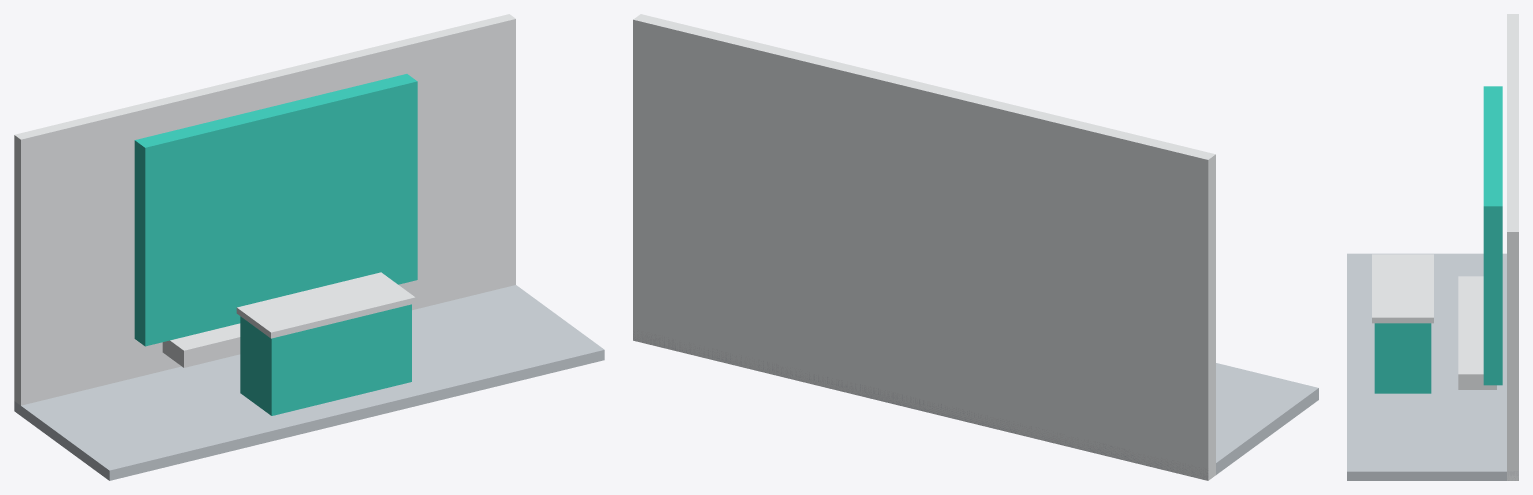
The picture shows the model from 3 angles, left to right: view 1: azimuth 30°, elevation 25°; view 2: azimuth 150°, elevation 25°; view 3: azimuth 270°, elevation 25°; orthographic projection. The views are drawn at different scales.
Visible parts, largest first — view 1: Exhibition Booth Concept; view 2: Exhibition Booth Concept; view 3: Exhibition Booth Concept.
Boxes of the visible parts, left/top/right/bottom form: Exhibition Booth Concept: left=14, top=14, right=604, bottom=480; Exhibition Booth Concept: left=633, top=14, right=1318, bottom=480; Exhibition Booth Concept: left=1347, top=14, right=1518, bottom=480.
Bounding box in the file's own units: 6 × 3.2 × 2.
